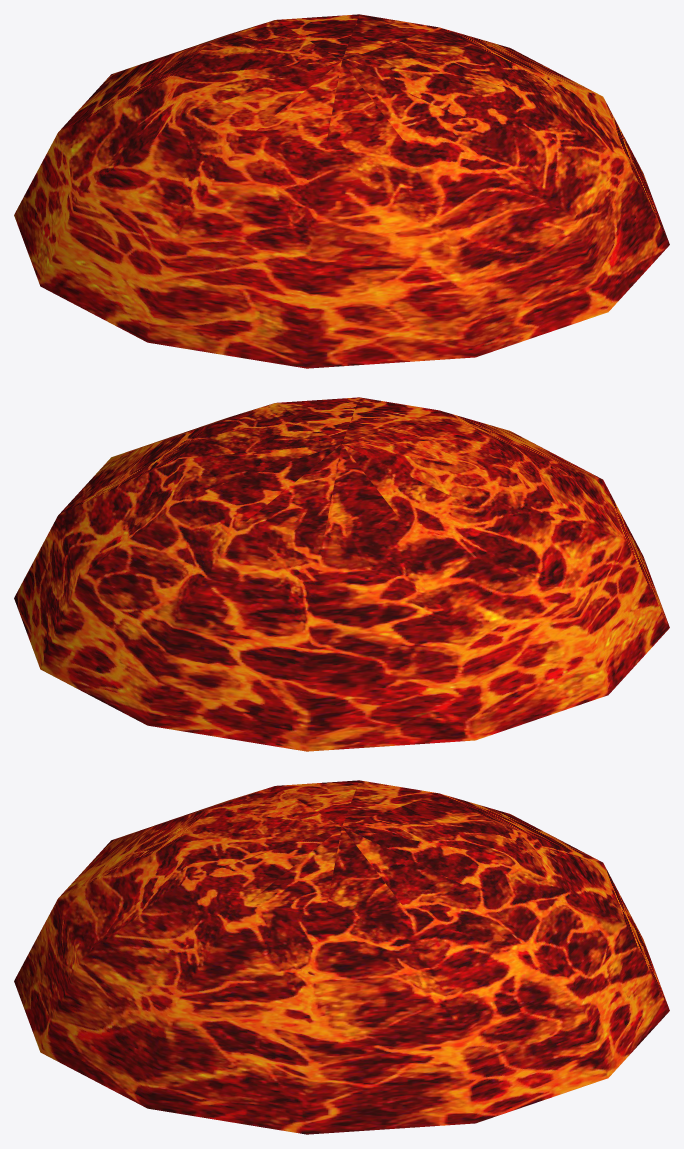
File: SKY.FBX
3 renders of one model, top to bottom at view 1: azimuth 30°, elevation 25°; view 2: azimuth 150°, elevation 25°; view 3: azimuth 270°, elevation 25°, orthographic.
Visible parts, largest first — view 1: Sphere001; view 2: Sphere001; view 3: Sphere001.
Part boxes in pixels (x1,y1,x2,y2): Sphere001: (14,14,669,368); Sphere001: (14,397,669,751); Sphere001: (14,780,669,1134).
Size of the model in its own units: 1110 by 316 by 1110.
